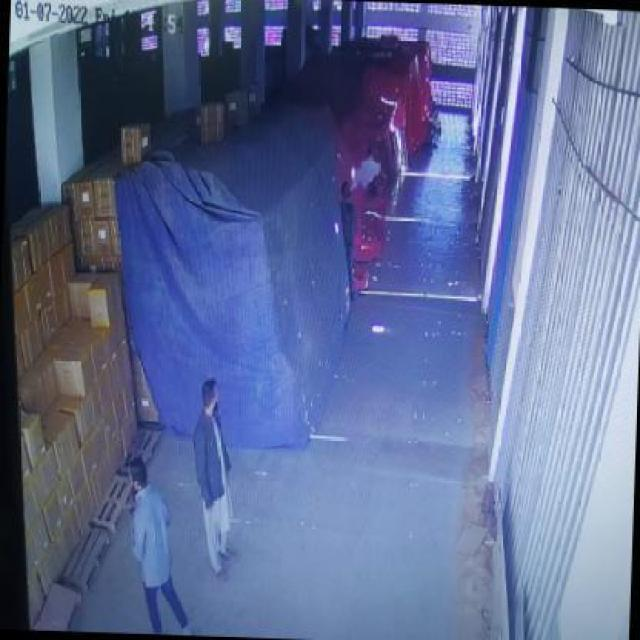fire: (348, 153, 382, 199)
